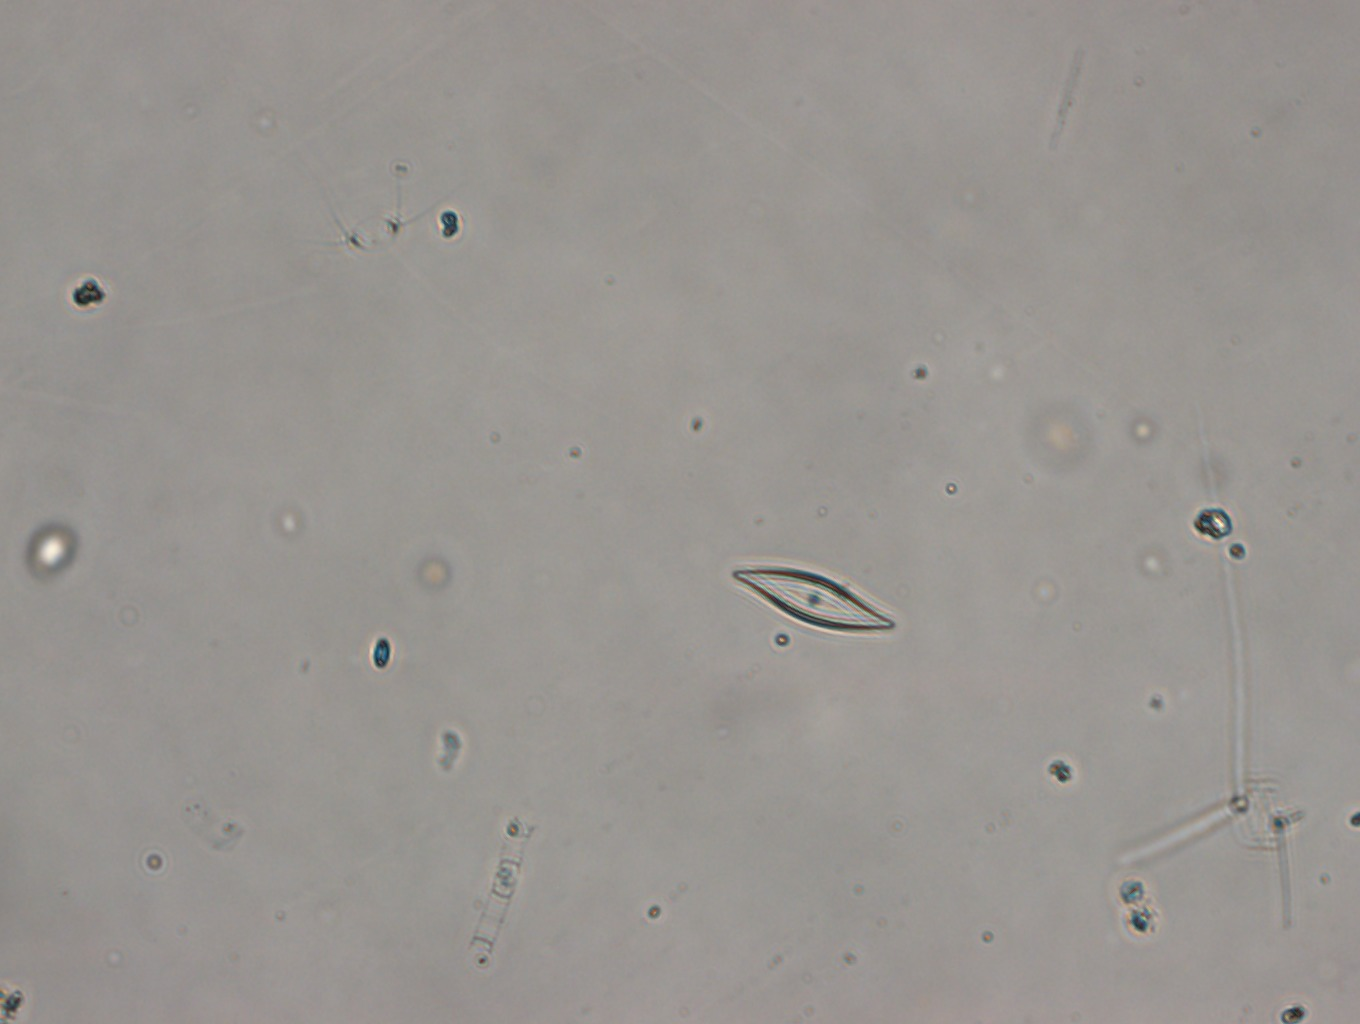pleurosigma pelagicum: (727, 553, 890, 641)
